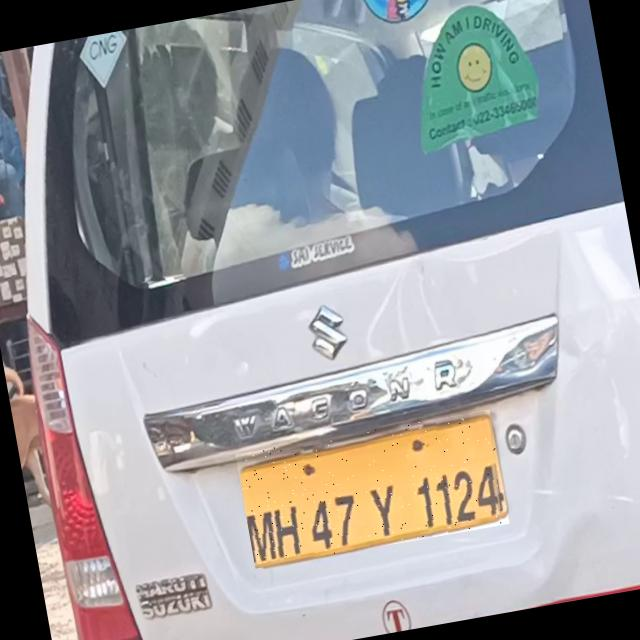Plate: (236, 410, 510, 569)
